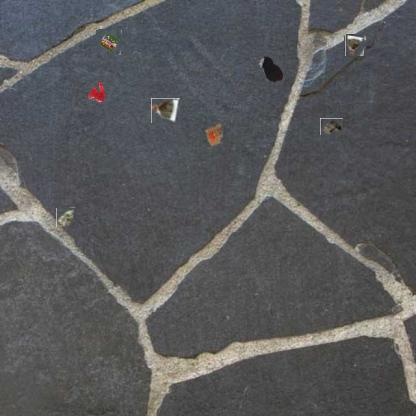dirty: (151, 98, 180, 123), (97, 30, 121, 55), (202, 121, 224, 147), (345, 35, 365, 56), (320, 118, 343, 135), (56, 207, 75, 227)
liquid: (258, 54, 286, 82), (88, 81, 106, 103)
